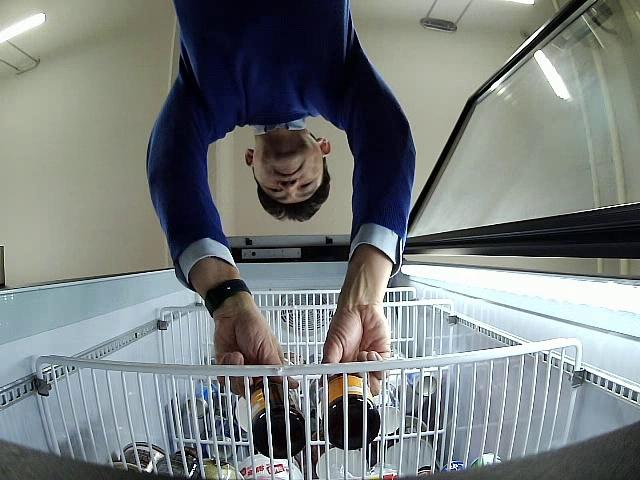00_hand: (317, 273, 391, 395), (210, 312, 301, 392)
17_vita500: (251, 382, 304, 458), (328, 374, 381, 448)
